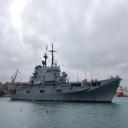Portanaves: (10, 44, 125, 106)
